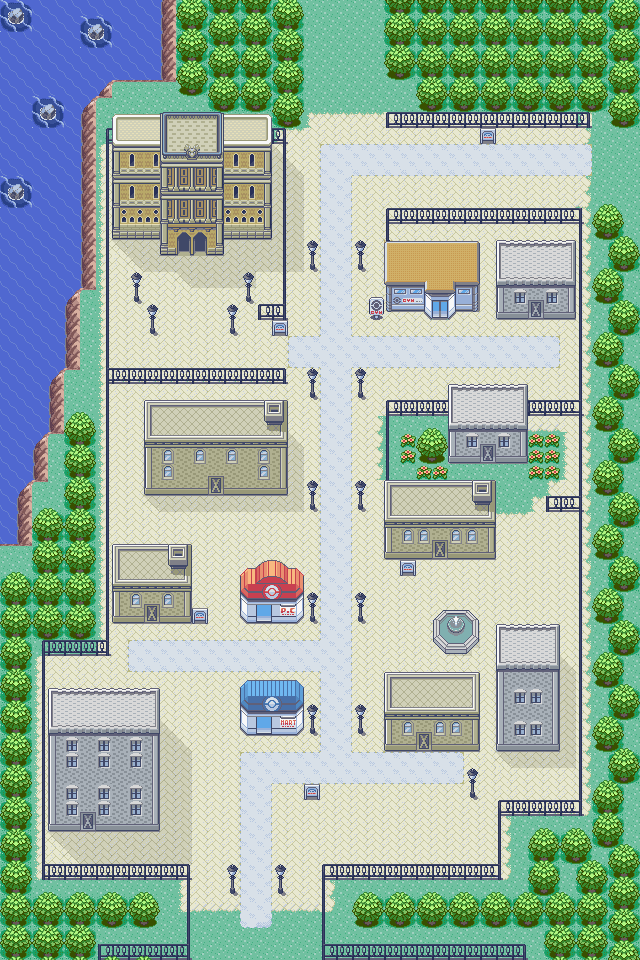gym: (382, 237, 485, 324)
misc: (153, 198, 231, 259)
normal_house: (141, 397, 292, 499), (380, 477, 502, 567), (380, 670, 486, 758), (494, 236, 581, 325), (106, 542, 196, 627), (47, 775, 164, 837), (445, 383, 531, 467)
pokemart: (236, 675, 306, 739)
pokemon_center: (236, 559, 306, 629)
